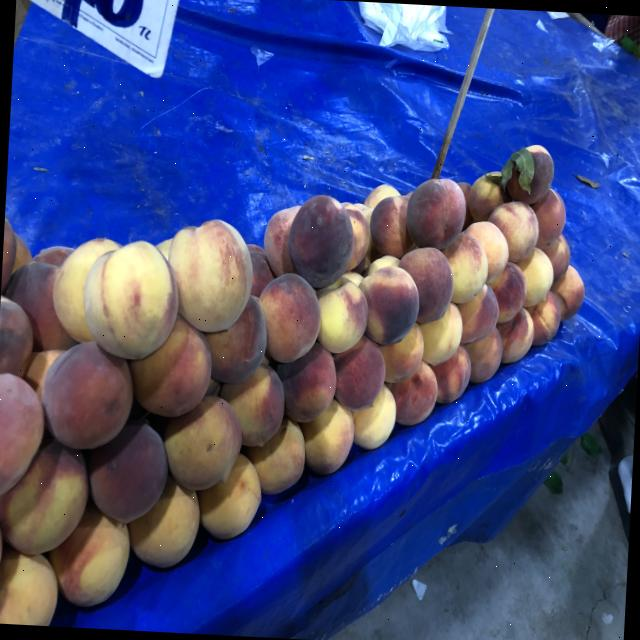peach: (84, 241, 178, 360), (41, 341, 133, 449), (167, 220, 252, 332), (130, 315, 211, 417), (164, 397, 242, 490), (259, 274, 321, 363), (220, 364, 284, 446), (359, 265, 419, 345), (278, 343, 337, 423), (406, 179, 466, 250), (398, 248, 453, 324), (317, 280, 368, 353)
